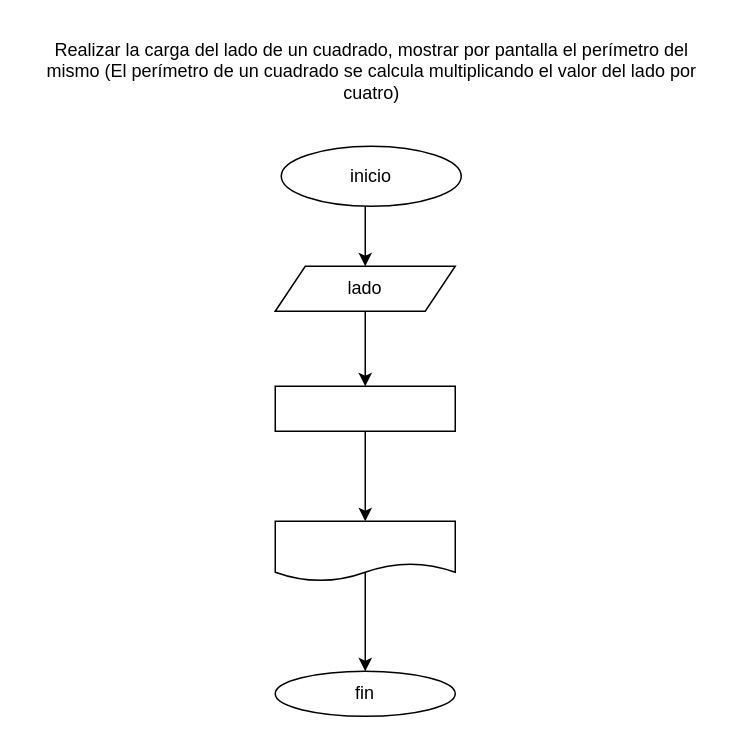
This 741x743 diagram has some shape labels left out. The centre of each missing label's shape, as x and y in pixels:
"perimetro" belongs at point 364,550.
"perimetro = lado * 4" belongs at point 364,408.
